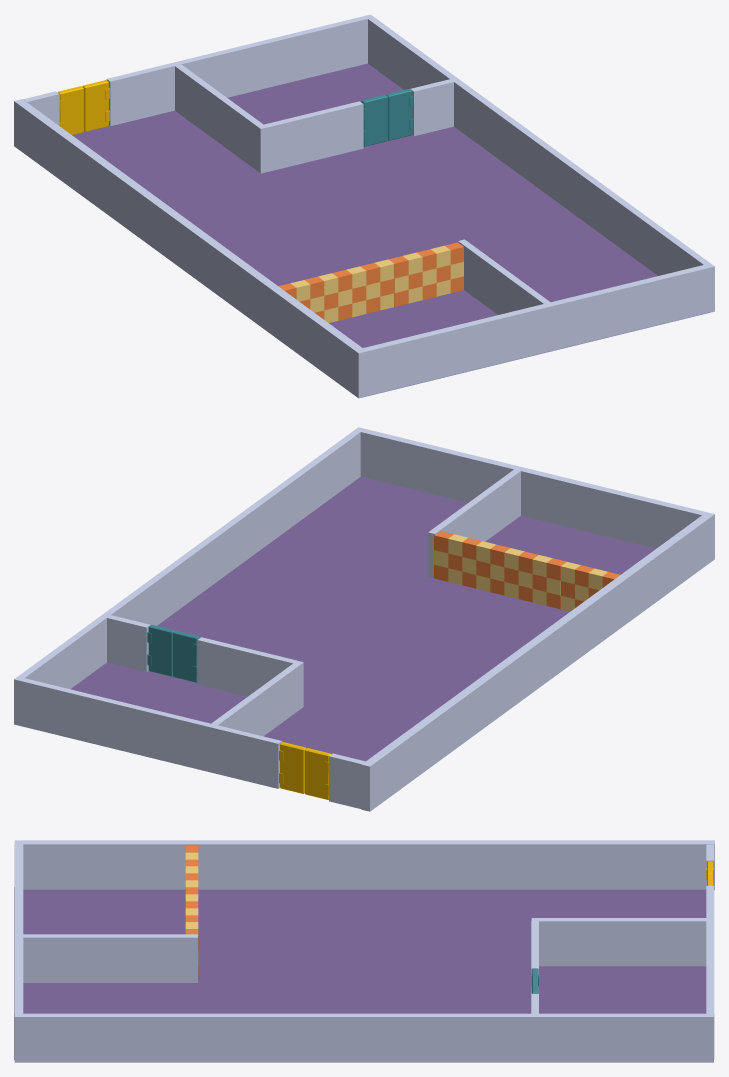
The model's file is maps37.fbx.
3 views of the same model, one above another, from view 1: azimuth 30°, elevation 25°; view 2: azimuth 150°, elevation 25°; view 3: azimuth 270°, elevation 25° (orthographic).
Visible parts, largest first — view 1: wall_01_08_geo, wall_01_07_geo, wall_01_05_geo, wall_01_06_geo, wall_01_09_geo10, wall_01_09_geo11, wall_01_09_geo12, wall_01_09_geo9, wall_01_09_geo13, polySurface6, polySurface165, polySurface2 (+2 smaller); view 2: wall_01_08_geo, wall_01_07_geo, wall_01_06_geo, wall_01_05_geo, wall_01_09_geo10, wall_01_09_geo12, wall_01_09_geo9, wall_01_09_geo11, wall_01_09_geo13, wall_01_09_geo, polySurface6, polySurface165 (+2 smaller); view 3: wall_01_08_geo, wall_01_06_geo, wall_01_07_geo, wall_01_09_geo9, wall_01_09_geo11, wall_01_05_geo, wall_01_09_geo10, wall_01_09_geo12.
Boxes of the visible parts, x1,y1,x2,y2 form: wall_01_08_geo: (72,63,709,397); wall_01_07_geo: (14,99,367,398); wall_01_05_geo: (363,265,708,396); wall_01_06_geo: (364,14,714,312); wall_01_09_geo10: (106,16,367,126); wall_01_09_geo11: (175,64,267,173); wall_01_09_geo12: (264,101,363,171); wall_01_09_geo9: (458,239,550,314); wall_01_09_geo13: (410,79,453,136); polySurface6: (386,88,413,140); polySurface165: (82,80,109,131); polySurface2: (361,94,387,146); wall_01_08_geo: (71,476,655,761); wall_01_07_geo: (361,512,714,811); wall_01_06_geo: (14,427,364,725); wall_01_05_geo: (360,429,705,548); wall_01_09_geo10: (20,678,282,788); wall_01_09_geo12: (197,637,296,696); wall_01_09_geo9: (428,469,520,578); wall_01_09_geo11: (211,660,303,736); wall_01_09_geo13: (107,615,150,672); wall_01_09_geo: (329,753,365,809); polySurface6: (147,624,174,676); polySurface165: (279,742,306,793); wall_01_08_geo: (14,887,706,1059); wall_01_06_geo: (14,1013,713,1062); wall_01_07_geo: (14,840,714,890); wall_01_09_geo9: (23,934,197,982); wall_01_09_geo11: (531,918,706,966); wall_01_05_geo: (14,844,23,1058); wall_01_09_geo10: (706,886,714,1059); wall_01_09_geo12: (531,921,538,993).
Bounding box in the file's own units: 73.34 × 9.2 × 123.
3 materials, 3 textured.
